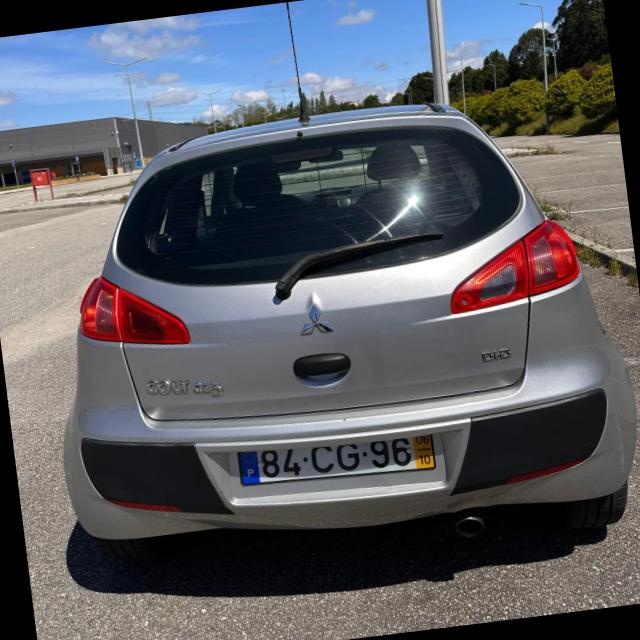portuguese-license-plates: (234, 422, 443, 494)
